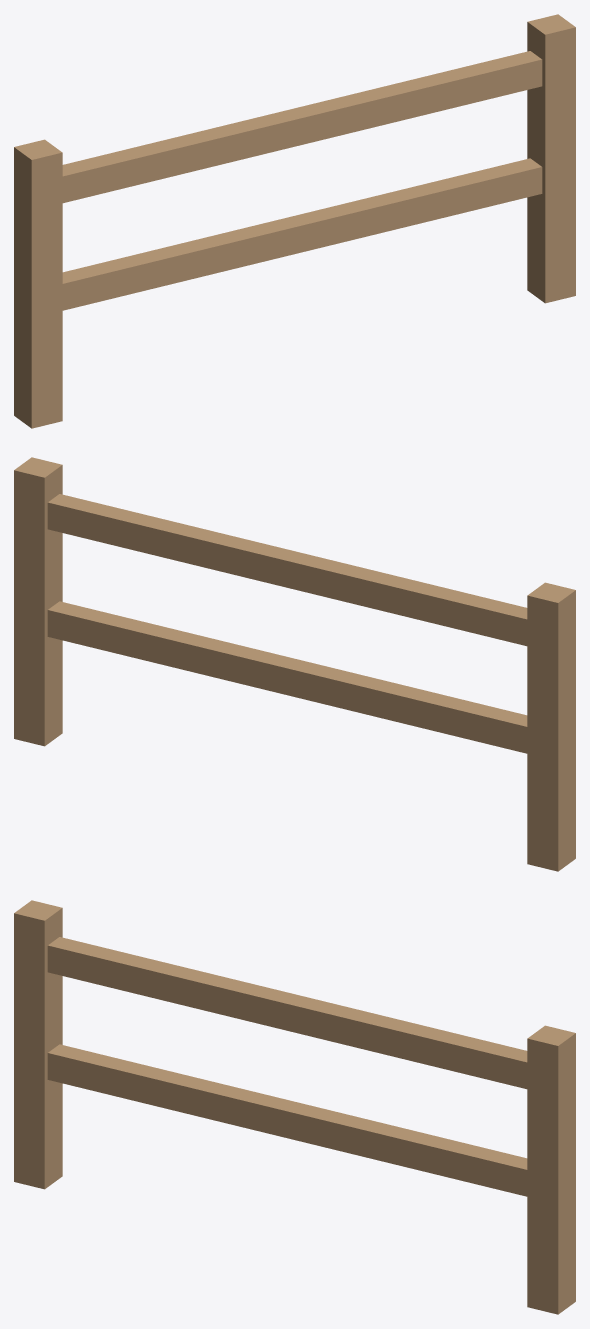
Rendered from Prop_DS_Fence_Seg_02.glb.
3 views of the same model, one above another, from view 1: azimuth 30°, elevation 25°; view 2: azimuth 150°, elevation 25°; view 3: azimuth 330°, elevation 25° (orthographic).
Visible parts, largest first — view 1: Cube.002, Cube.003, Cube, Cube.001; view 2: Cube.002, Cube.003, Cube, Cube.001; view 3: Cube.002, Cube.003, Cube.001, Cube.
Part boxes in pixels (x1=…): Cube.002: x1=62, y1=158, x2=542, y2=310; Cube.003: x1=62, y1=51, x2=542, y2=203; Cube: x1=14, y1=139, x2=62, y2=428; Cube.001: x1=527, y1=14, x2=575, y2=303; Cube.002: x1=47, y1=601, x2=527, y2=753; Cube.003: x1=47, y1=494, x2=527, y2=646; Cube: x1=527, y1=582, x2=575, y2=871; Cube.001: x1=14, y1=457, x2=62, y2=746; Cube.002: x1=47, y1=1044, x2=527, y2=1196; Cube.003: x1=47, y1=937, x2=527, y2=1089; Cube.001: x1=527, y1=1025, x2=575, y2=1314; Cube: x1=14, y1=900, x2=62, y2=1189.
Bounding box in the file's own units: 2.12 × 1 × 0.12.
